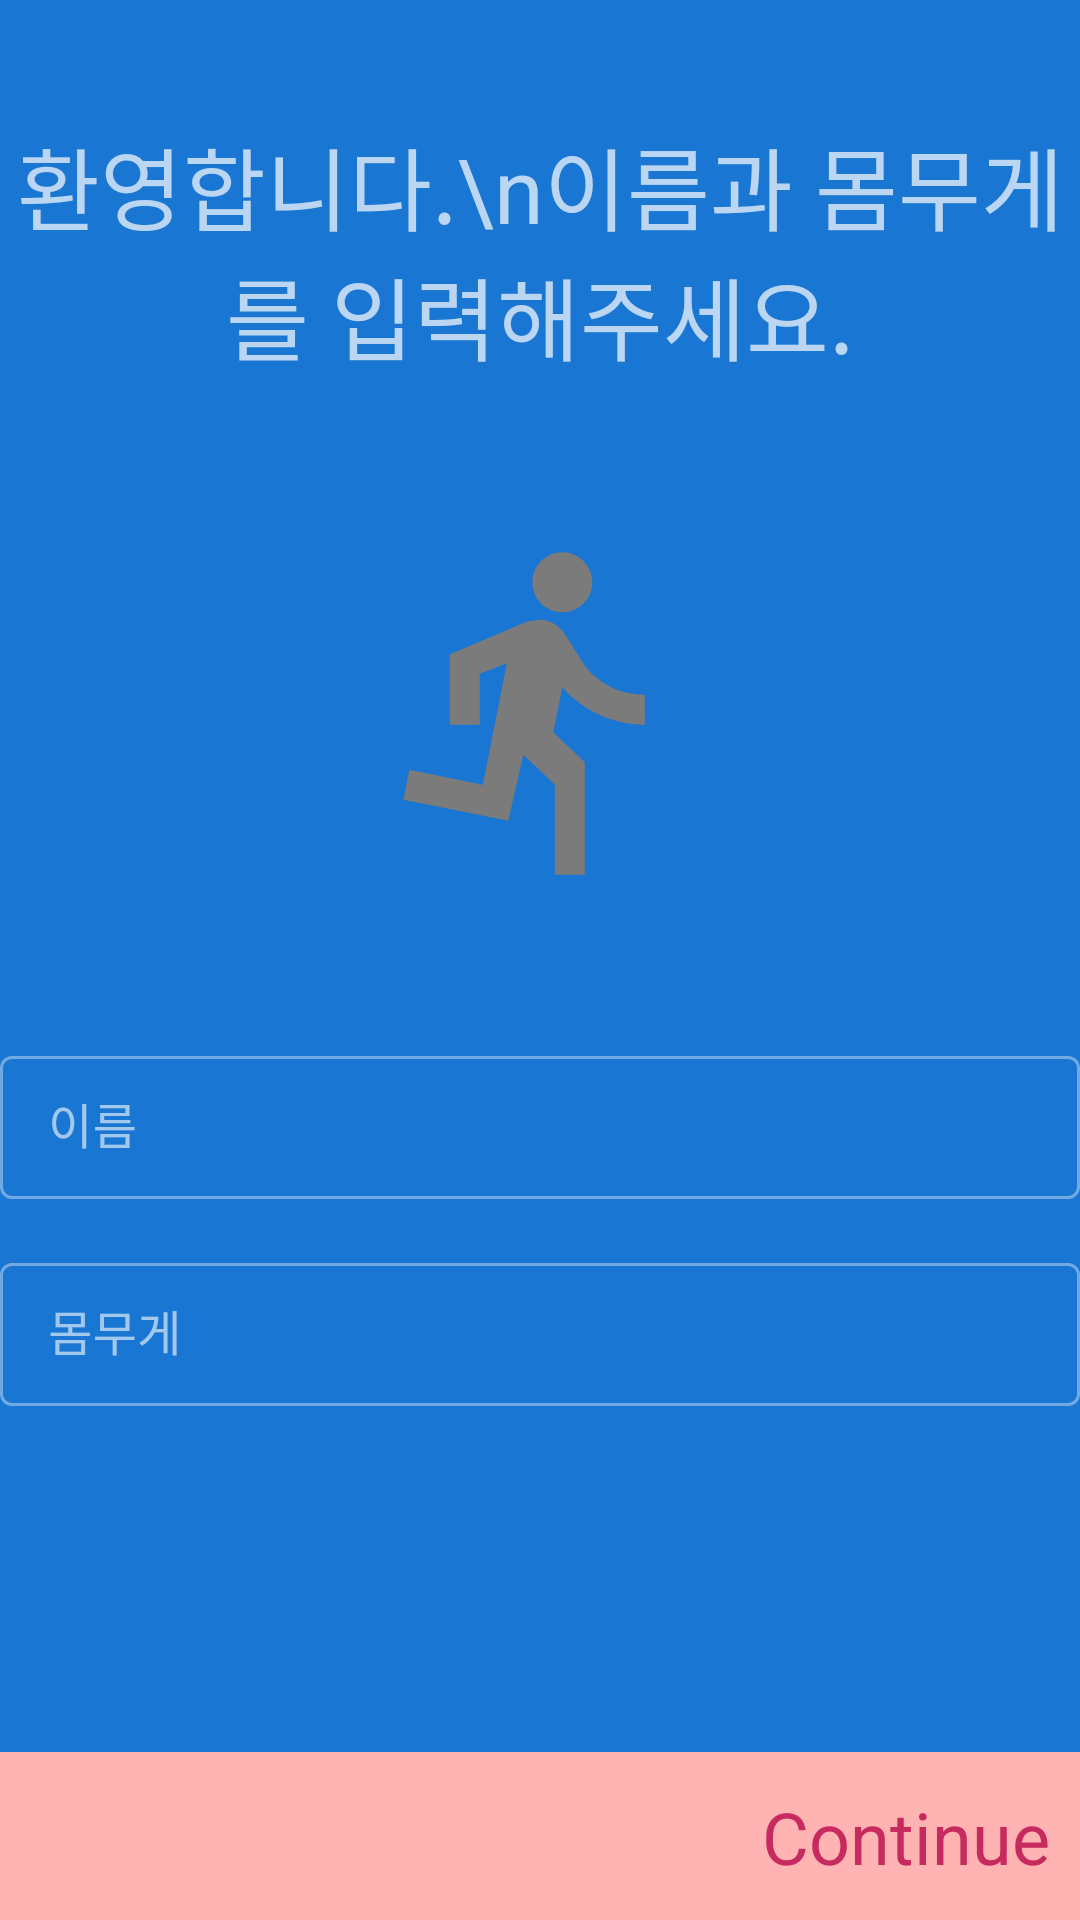

Where icons sit on this 1080px×1920px app screen, as bbox(x1, y1, x2, y2):
run: bbox(403, 552, 645, 875)
